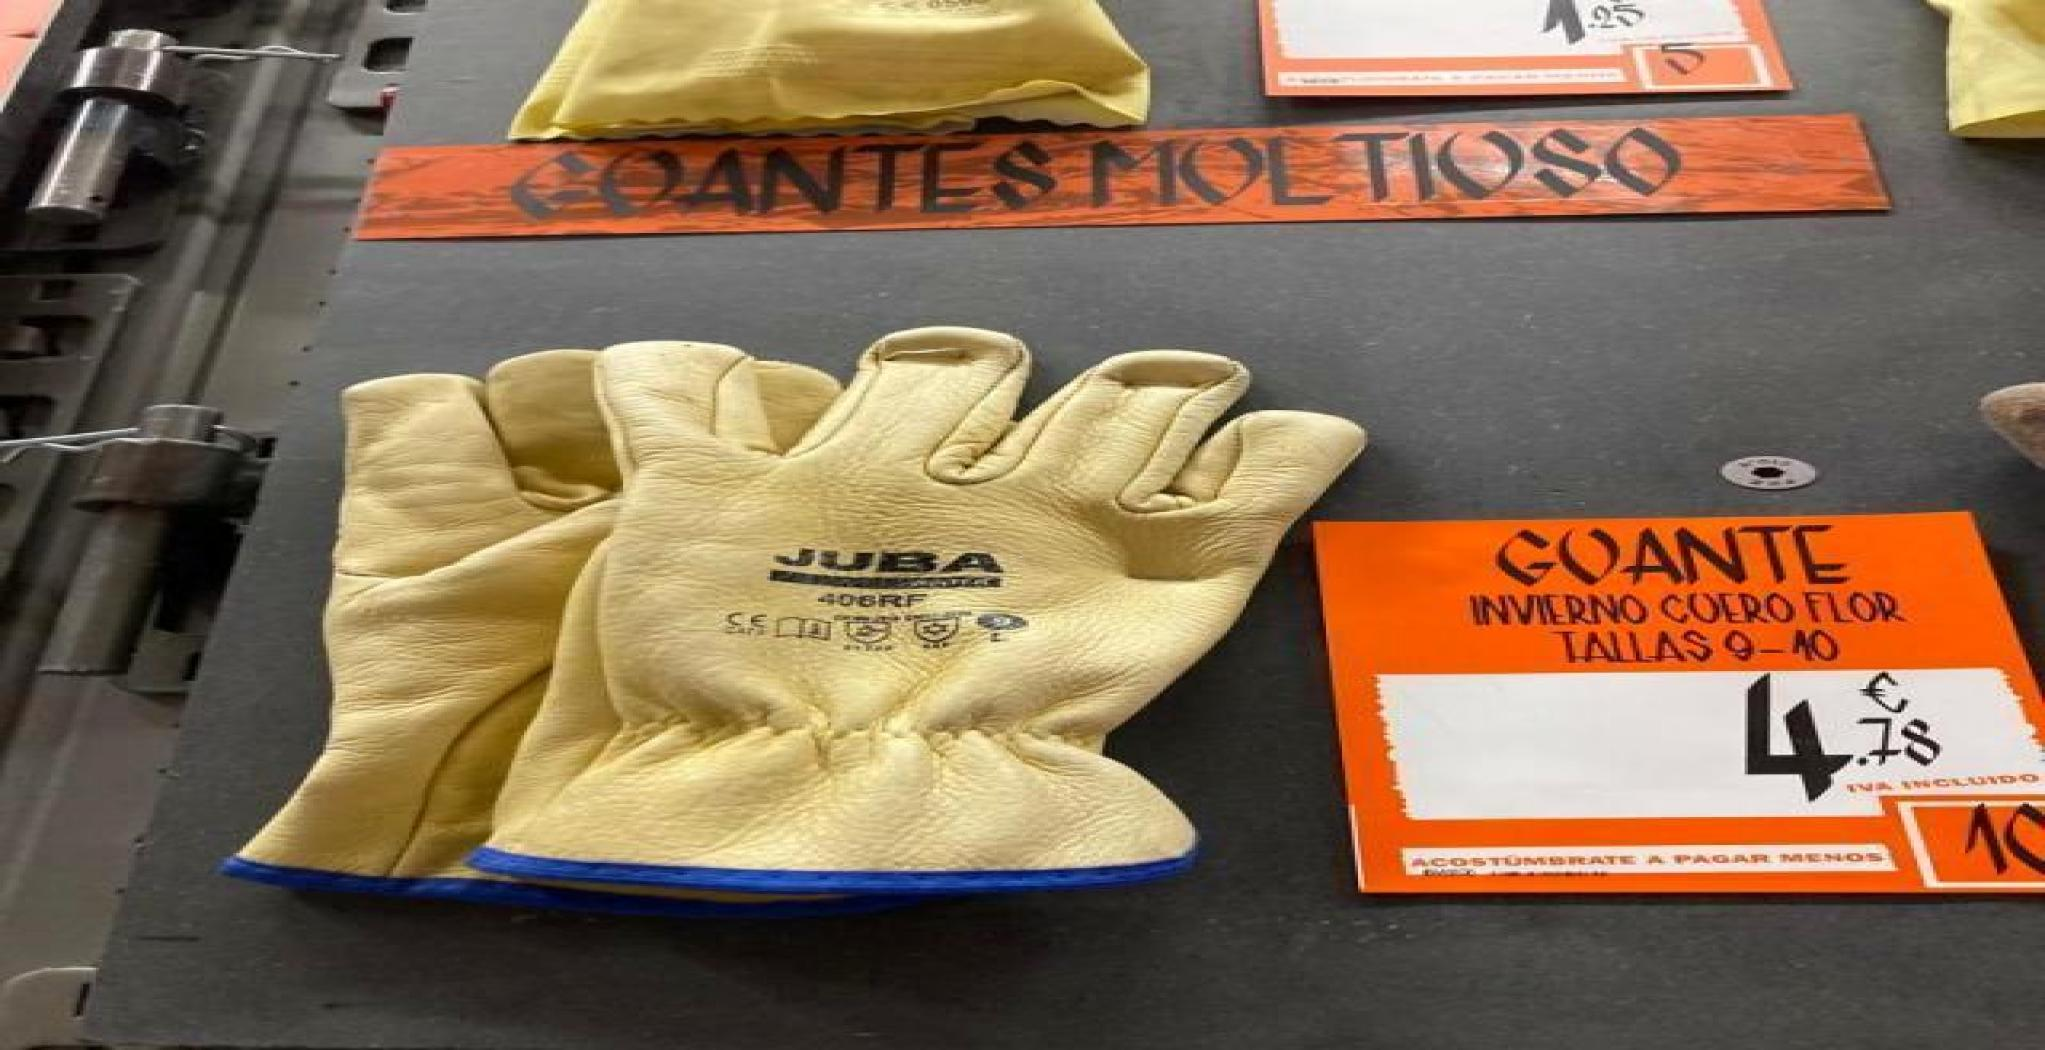gloved: (335, 328, 1335, 884)
